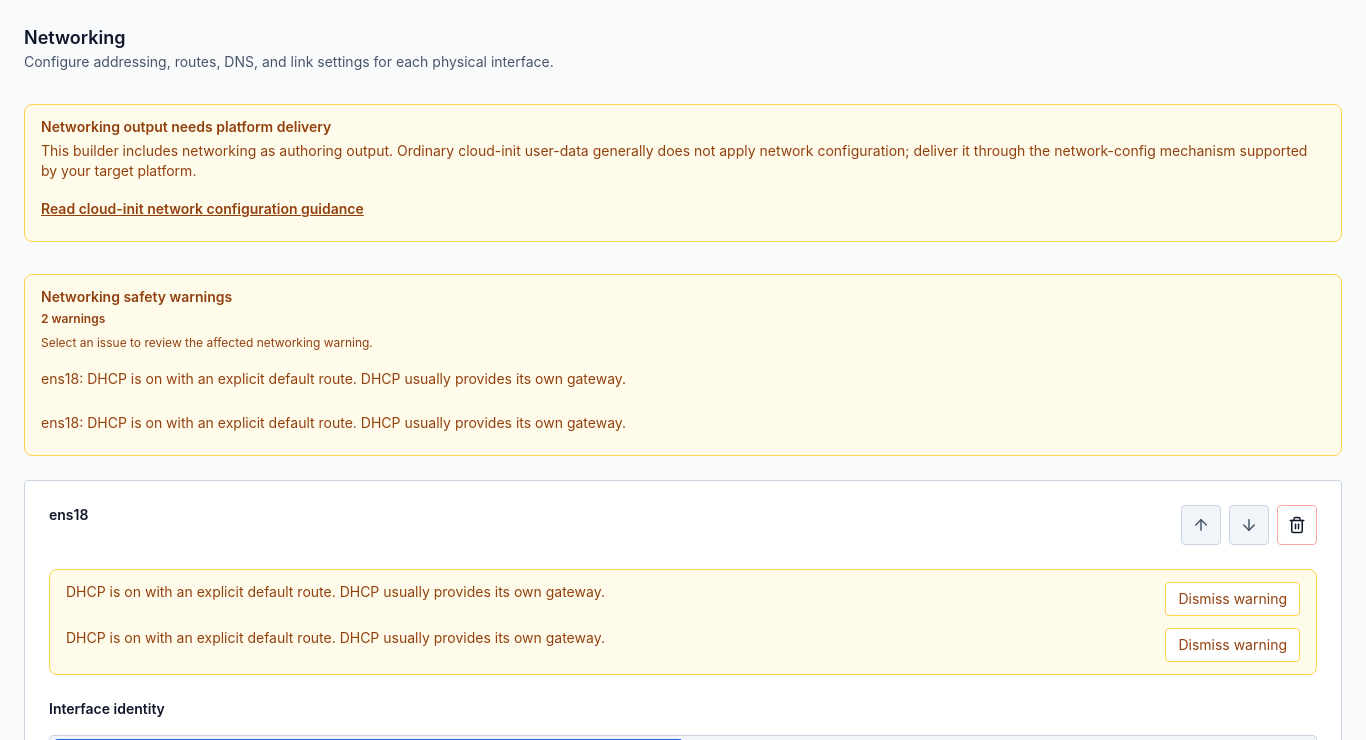
it: NetworkingValidation › keeps the IPv6 risk warning visible after dismissing the IPv4 warning
Expected: the element with id "network-dual-risk-risk-warnings" is shown, [49,569,1317,675]
Click the button with aria-label "Dismiss DHCP is on with an explicit default route" at (1233,599), box [1165,582,1300,616]
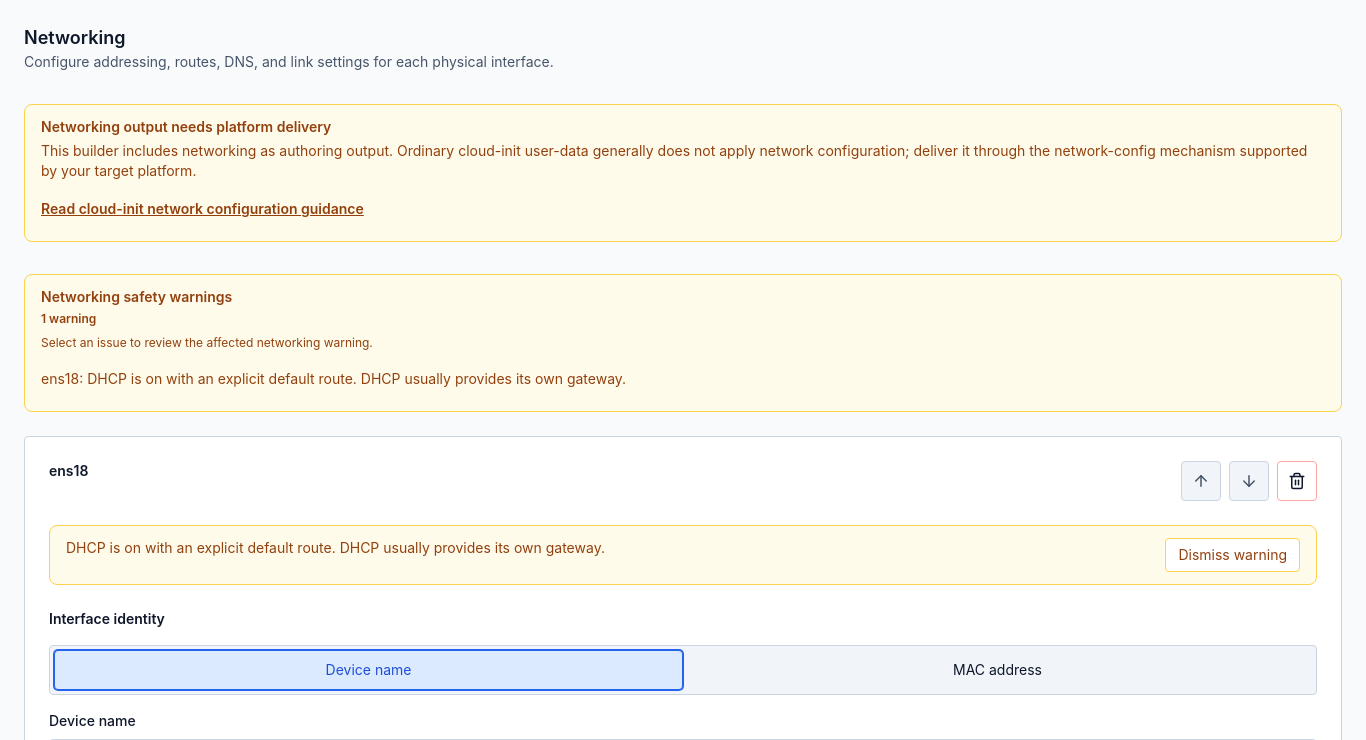
Result: the number of buttons "Dismiss warning" is 1 at [1165,538,1300,572]
Result: the text "1 warning" is shown at [41,311,96,326]
